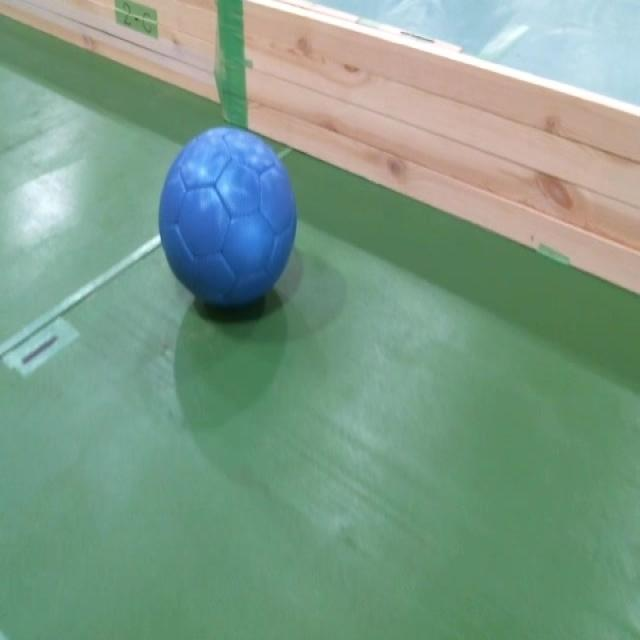blue_ball: (160, 126, 299, 313)
